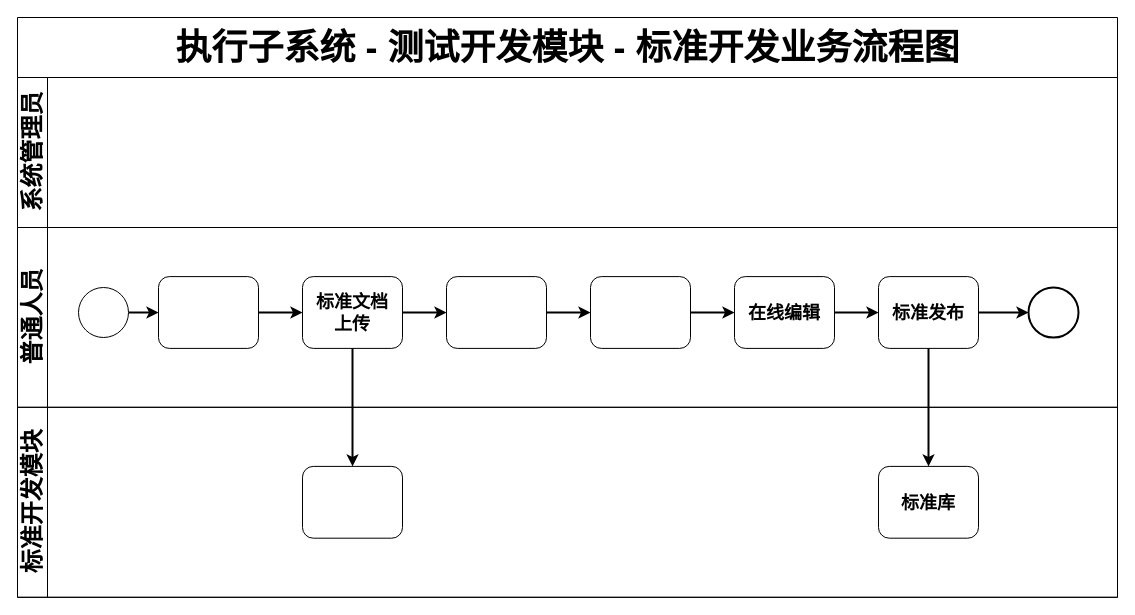
The diagram is 1135 pixels wide and 615 high, and some of its shapes have lost their labels. Each missing label, with the centre of its shape:
全文检索: the point at 640,312
在线预览: the point at 496,312
标准摘要 生成: the point at 352,501
用户登录: the point at 208,312
